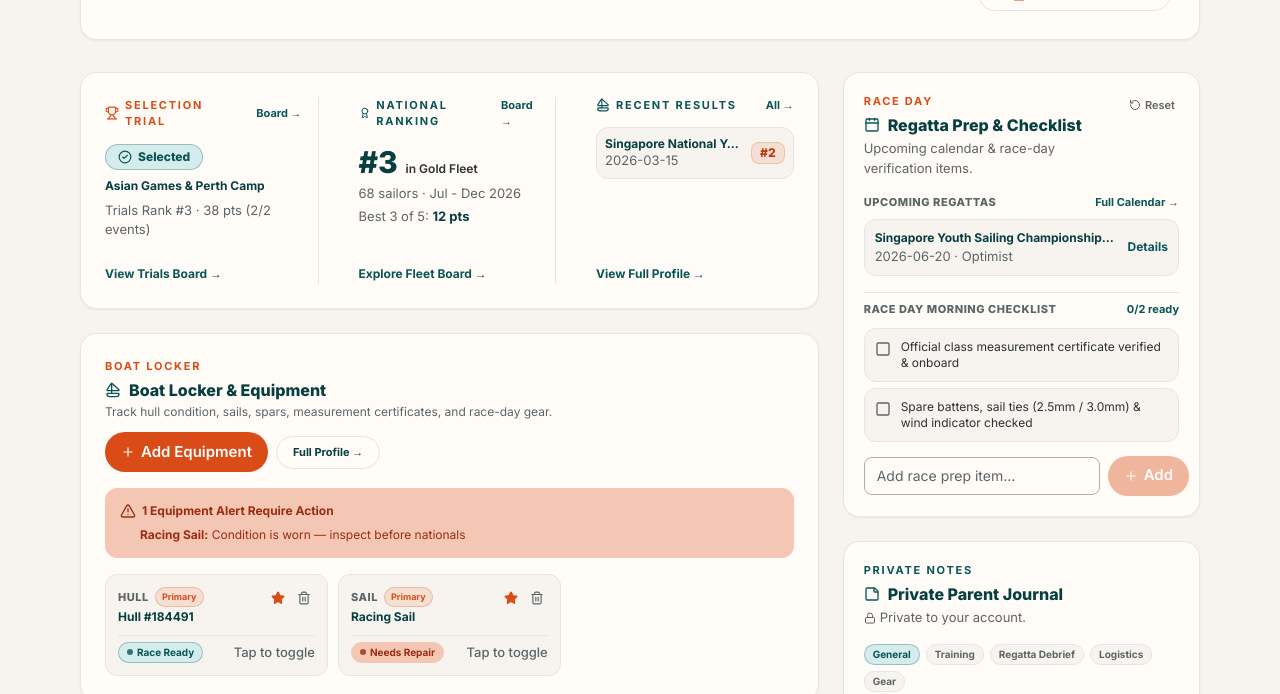
Scenario: ParentDashboard › interacts with the morning race-day checklist and adds custom item
The width and height of the screenshot is (1280, 694).
(page scrolled)
Expected: the text "Official class measurement certificate verified & onboard" is shown, [901,339,1168,371]
Expected: the text "0/2 ready" is shown, [1127,301,1179,318]
# Click first checklist item
Click the button "Official class measurement certificate verified & onboard": coordinates (1021, 355) [875,339,1168,371]
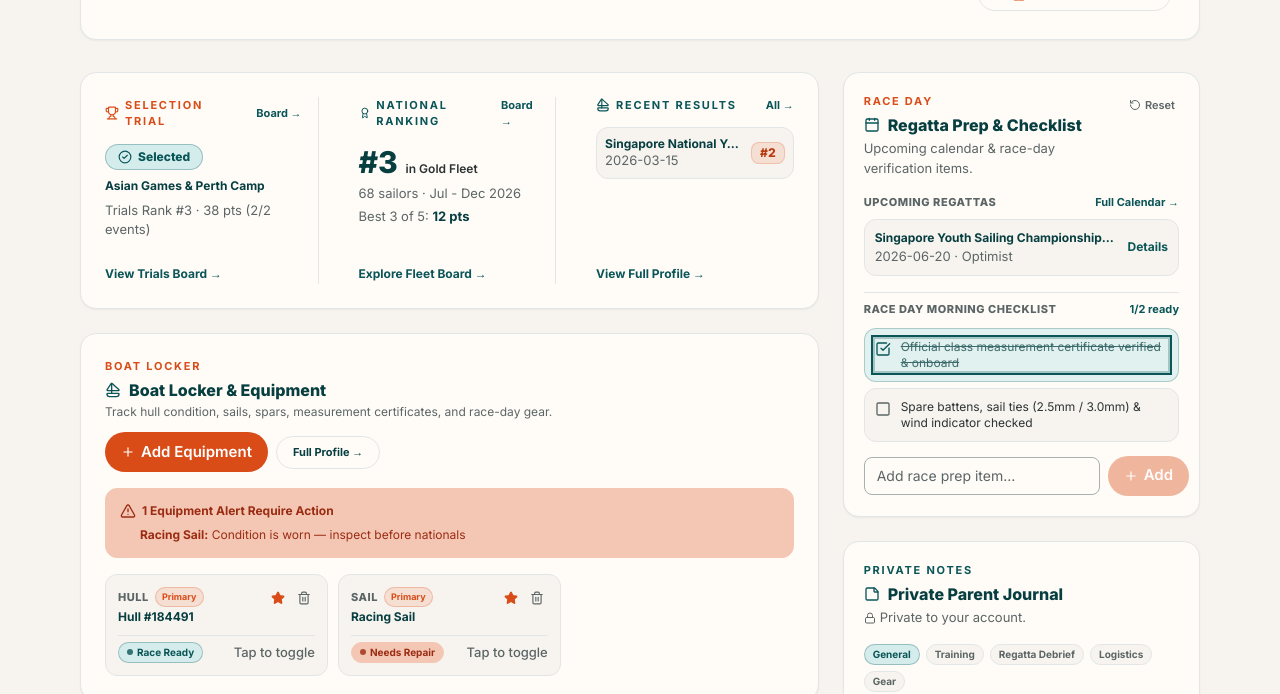
Expected: the text "1/2 ready" is shown, [1130,301,1179,318]
# Add a custom checklist item
In the field with placeholder "Add race prep item…": coordinates (982, 476) [864,457,1100,495], type "Extra electrolyte bottle"
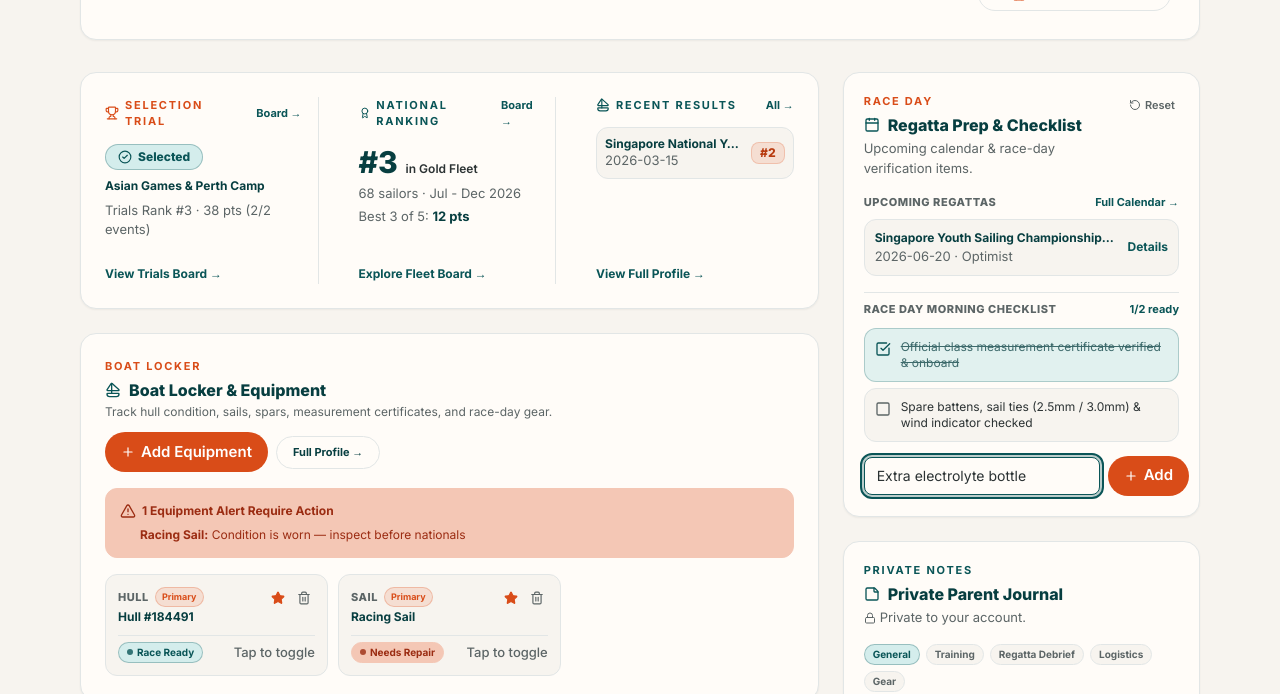
Click the button "Add": coordinates (1148, 476) [1108,456,1189,496]
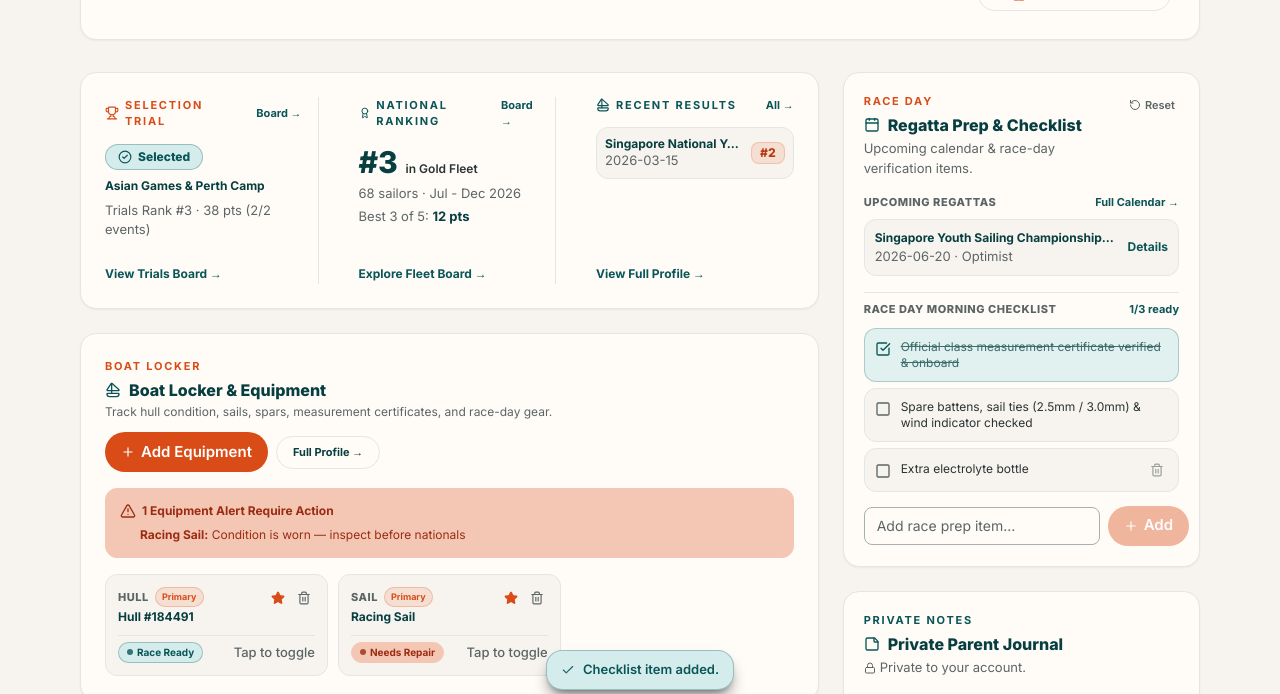
Expected: the text "Extra electrolyte bottle" is shown, [901,461,1029,477]
Expected: the text "1/3 ready" is shown, [1129,301,1179,318]
# Check off the newly added item
Click the button "Extra electrolyte bottle": coordinates (1005, 470) [875,461,1136,479]
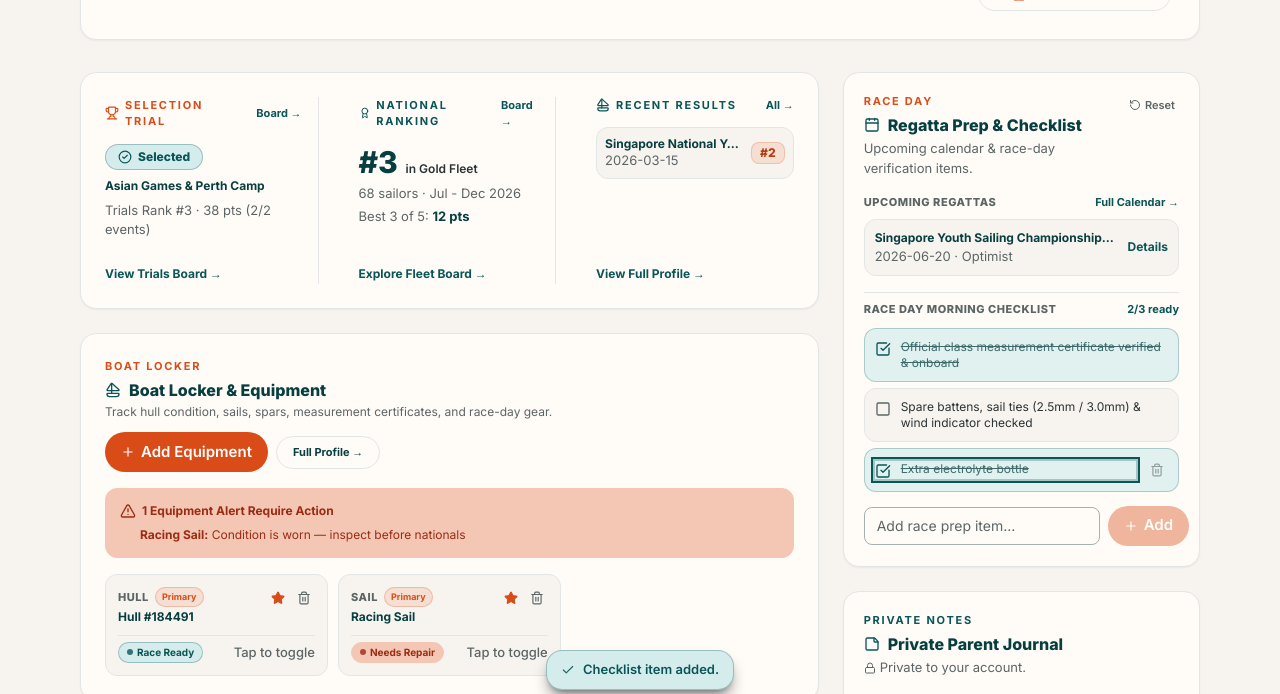
Expected: the text "2/3 ready" is shown, [1127,301,1179,318]
# Reset checklist
Click the button titled "Reset checklist": coordinates (1152, 105) [1125,93,1179,117]
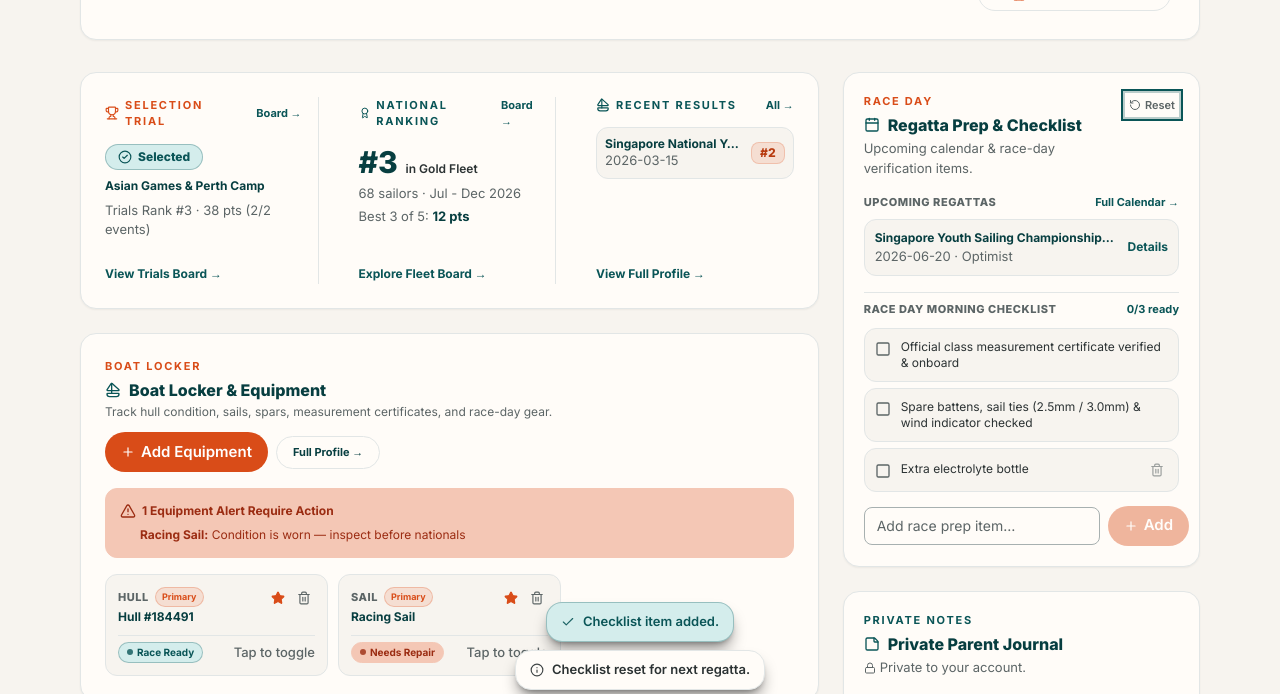
Expected: the text "0/3 ready" is shown, [1127,301,1179,318]
